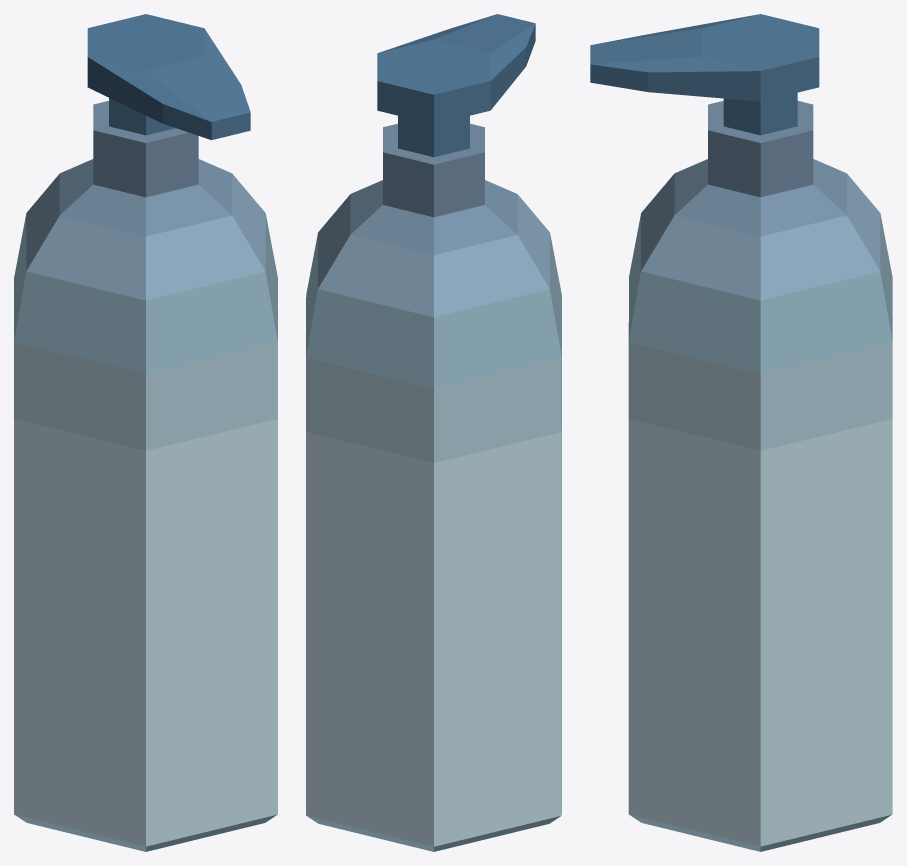
File: Int_Shampoo01_2.fbx
The picture shows the model from 3 angles, left to right: view 1: azimuth 30°, elevation 25°; view 2: azimuth 150°, elevation 25°; view 3: azimuth 270°, elevation 25°; orthographic projection. The views are drawn at different scales.
Visible parts, largest first — view 1: Int_Shampoo01_2; view 2: Int_Shampoo01_2; view 3: Int_Shampoo01_2.
Part boxes in pixels (box(x1,y1,x2,y2)): Int_Shampoo01_2: box(14, 14, 277, 851); Int_Shampoo01_2: box(306, 14, 561, 851); Int_Shampoo01_2: box(590, 14, 892, 851).
Size of what is drawn, in the model's own units: 10.81 by 10.73 by 29.41.
